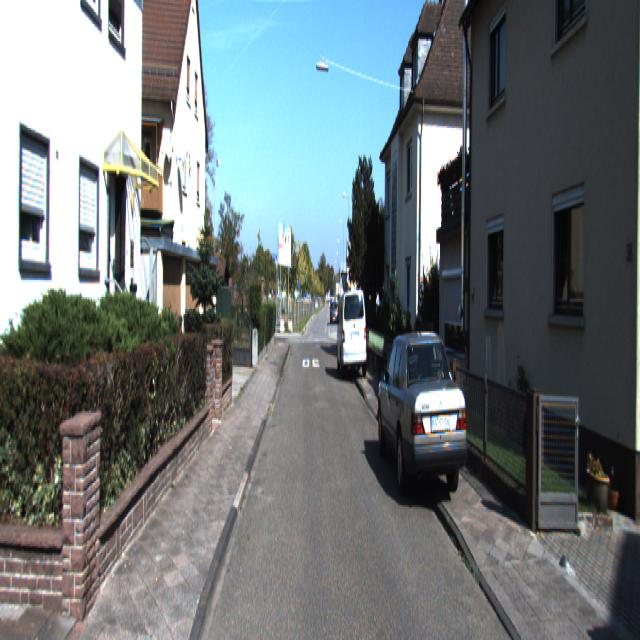Car: (376, 324, 471, 524), (338, 290, 368, 388)
